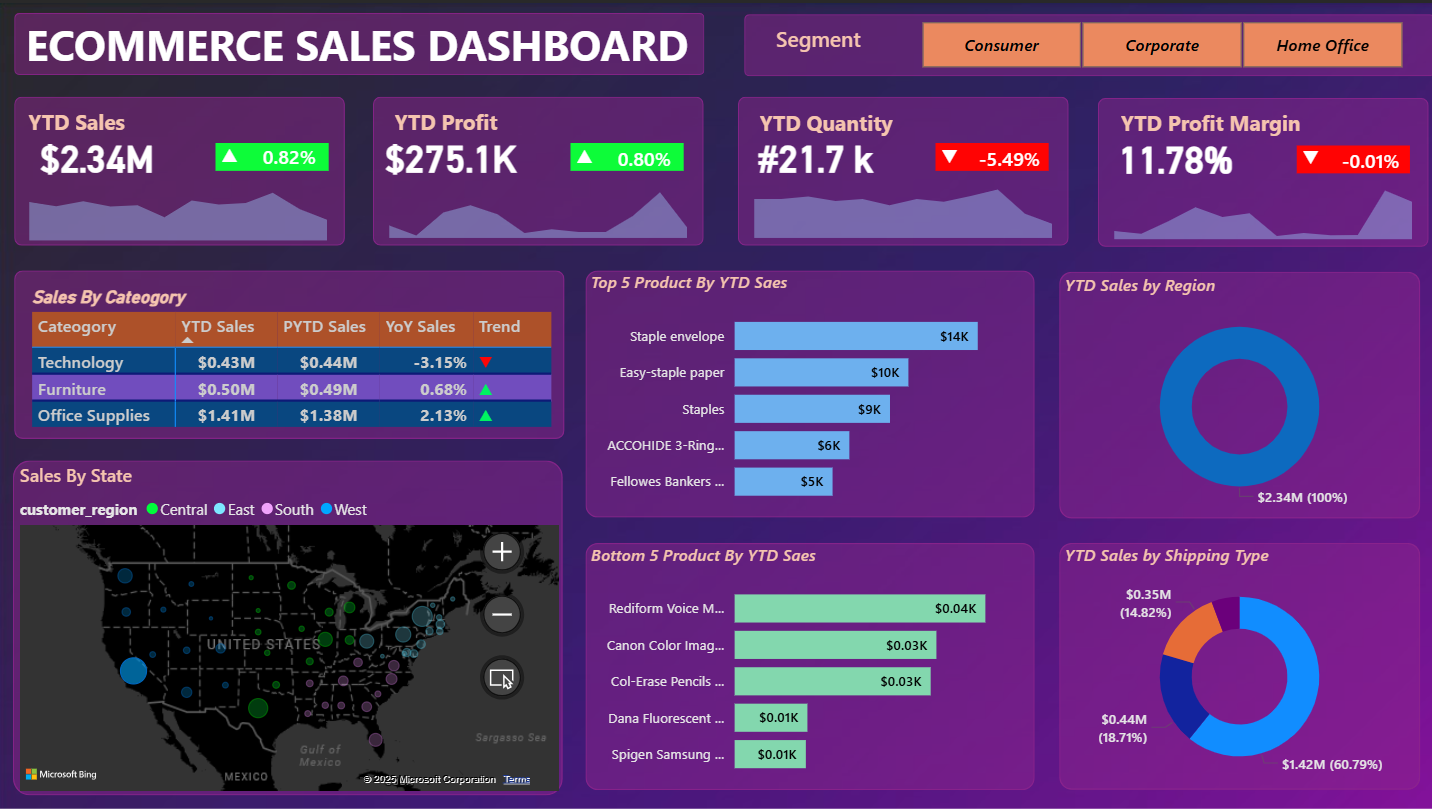

The page's visual inventory and layout, read from the dashboard file:
{"tool":"powerbi","page":{"name":"Page 1","canvas":[1280,720],"ordinal":0},"visuals":[{"type":"shape","box":[14.7,8.6,614.7,55.2],"z":0},{"type":"textbox","box":[19.6,6.1,630.7,61.4],"z":1000},{"type":"shape","box":[14.7,83.4,294.5,132.5],"z":2000},{"type":"card","fields":{"Values":["ecommerce_data.YTD Sales"]},"box":[18.4,106.7,138.7,58.9],"z":3000},{"type":"areaChart","fields":{"Category":["Calendar.Month"],"Y":["Sum(ecommerce_data.sales_per_order)"]},"box":[13.5,149.7,294.5,67.5],"z":4000},{"type":"shape","box":[193.9,125.2,100.6,24.5],"z":5000},{"type":"card","fields":{"Values":["ecommerce_data.YoY Sales"]},"box":[224.5,125.2,69.9,28.2],"z":6000},{"type":"card","fields":{"Values":["ecommerce_data.Sales Icon"]},"box":[193.9,120.2,25.8,33.1],"z":7000},{"type":"textbox","box":[22.1,88.3,110.4,35.6],"z":8000},{"type":"shape","box":[333.5,83.4,294.5,132.5],"z":9000},{"type":"card","fields":{"Values":["ecommerce_data.YTD Profit"]},"box":[333.5,106.7,138.7,58.9],"z":10000},{"type":"areaChart","fields":{"Category":["Calendar.Month"],"Y":["Sum(ecommerce_data.profit_per_order)"]},"box":[333.5,147.2,294.5,67.5],"z":11000},{"type":"shape","box":[510.2,125.2,100.6,24.5],"z":12000},{"type":"card","fields":{"Values":["ecommerce_data.YoY Profit"]},"box":[540.9,126.4,69.9,28.2],"z":13000},{"type":"card","fields":{"Values":["ecommerce_data.Profit Icon"]},"box":[510.2,121.5,25.8,33.1],"z":14000},{"type":"textbox","box":[348.2,88.3,110.4,35.6],"z":15000},{"type":"shape","box":[658.7,83.4,294.5,132.5],"z":16000},{"type":"card","fields":{"Values":["ecommerce_data.YTD Qty logo"]},"box":[658.7,106.7,138.7,58.9],"z":17000},{"type":"areaChart","fields":{"Category":["Calendar.Month"],"Y":["Sum(ecommerce_data.order_quantity)"]},"box":[658.7,147.2,294.5,67.5],"z":18000},{"type":"shape","box":[835.4,125.2,100.6,24.5],"z":19000},{"type":"card","fields":{"Values":["ecommerce_data.YoY Qty"]},"box":[866,126.4,69.9,28.2],"z":20000},{"type":"card","fields":{"Values":["ecommerce_data.Quantity Icon"]},"box":[835.4,121.5,25.8,33.1],"z":21000},{"type":"textbox","box":[673.7,88.9,141.1,35.6],"z":22000},{"type":"shape","box":[980.1,84.7,294.5,132.5],"z":23000},{"type":"card","fields":{"Values":["ecommerce_data.YTD Profit Margin"]},"box":[980.1,108,138.7,58.9],"z":24000},{"type":"areaChart","fields":{"Category":["Calendar.Month"],"Y":["ecommerce_data.Profit Margin"]},"box":[980.1,148.5,294.5,67.5],"z":25000},{"type":"shape","box":[1156.8,126.4,100.6,24.5],"z":26000},{"type":"card","fields":{"Values":["ecommerce_data.YoY Profit Margin"]},"box":[1187.5,127.6,69.9,28.2],"z":27000},{"type":"card","fields":{"Values":["ecommerce_data.Profit Margin Icon"]},"box":[1156.8,122.7,25.8,33.1],"z":28000},{"type":"textbox","box":[995.1,89.6,192.6,35.6],"z":29000},{"type":"shape","box":[14.7,238,490,150],"z":30000},{"type":"pivotTable","title":"Sales By  Cateogory","fields":{"Rows":["ecommerce_data.category_name"],"Values":["ecommerce_data.YTD Sales","ecommerce_data.PYTD Sales","ecommerce_data.YoY Sales","ecommerce_data.Sales Icon"]},"box":[25.8,252.8,473.6,131.3],"z":31000},{"type":"shape","box":[13.5,407.4,489.6,298.2],"z":32000},{"type":"map","title":"Sales By State","fields":{"X":["us_state_long_lat_codes.longitude"],"Y":["us_state_long_lat_codes.latitude"],"Size":["ecommerce_data.YTD Sales"],"Series":["ecommerce_data.customer_region"]},"box":[14.7,408.6,489.6,298.2],"z":33000},{"type":"shape","box":[522.7,238,400,220],"z":34000},{"type":"shape","box":[522.7,481,400,220],"z":35000},{"type":"barChart","title":"Top 5 Product By YTD Saes","fields":{"Category":["ecommerce_data.product_name"],"Y":["ecommerce_data.YTD Sales"]},"box":[522.7,238,400,219.6],"z":36000},{"type":"barChart","title":"Bottom 5 Product By YTD Saes","fields":{"Category":["ecommerce_data.product_name"],"Y":["ecommerce_data.YTD Sales"]},"box":[522.7,481,400,219.6],"z":37000},{"type":"shape","box":[944.8,239.3,321.5,219.6],"z":37001},{"type":"shape","box":[944.8,481,321.5,219.6],"z":37002},{"type":"donutChart","title":"YTD Sales by Region","fields":{"Y":["ecommerce_data.YTD Sales"],"Category":["ecommerce_data.customer_region"]},"box":[944.8,240.5,321.5,218.4],"z":37003},{"type":"donutChart","title":"YTD Sales by Shipping Type","fields":{"Y":["ecommerce_data.YTD Sales"],"Category":["ecommerce_data.shipping_type"]},"box":[944.8,481,321.5,218.4],"z":37004},{"type":"shape","box":[665,9.8,614.7,55.2],"z":37005},{"type":"slicer","fields":{"Values":["ecommerce_data.customer_segment"]},"box":[797.6,9.8,477.3,54],"z":37006},{"type":"textbox","box":[688.3,14.7,114.1,45.4],"z":37007}]}

Visuals, with their boxes in screenshot pixels (x1, y1, x2, y2), scaled from the page's 1280x720 canvas onto the 1432x811 screenshot:
shape: x1=16, y1=10, x2=704, y2=72
textbox: x1=22, y1=7, x2=728, y2=76
shape: x1=16, y1=94, x2=346, y2=243
card - ecommerce_data.YTD Sales: x1=21, y1=120, x2=176, y2=187
areaChart - Calendar.Month x Sum(ecommerce_data.sales_per_order): x1=15, y1=169, x2=345, y2=245
shape: x1=217, y1=141, x2=329, y2=169
card - ecommerce_data.YoY Sales: x1=251, y1=141, x2=329, y2=173
card - ecommerce_data.Sales Icon: x1=217, y1=135, x2=246, y2=173
textbox: x1=25, y1=99, x2=148, y2=140
shape: x1=373, y1=94, x2=703, y2=243
card - ecommerce_data.YTD Profit: x1=373, y1=120, x2=528, y2=187
areaChart - Calendar.Month x Sum(ecommerce_data.profit_per_order): x1=373, y1=166, x2=703, y2=242
shape: x1=571, y1=141, x2=683, y2=169
card - ecommerce_data.YoY Profit: x1=605, y1=142, x2=683, y2=174
card - ecommerce_data.Profit Icon: x1=571, y1=137, x2=600, y2=174
textbox: x1=390, y1=99, x2=513, y2=140
shape: x1=737, y1=94, x2=1066, y2=243
card - ecommerce_data.YTD Qty logo: x1=737, y1=120, x2=892, y2=187
areaChart - Calendar.Month x Sum(ecommerce_data.order_quantity): x1=737, y1=166, x2=1066, y2=242
shape: x1=935, y1=141, x2=1047, y2=169
card - ecommerce_data.YoY Qty: x1=969, y1=142, x2=1047, y2=174
card - ecommerce_data.Quantity Icon: x1=935, y1=137, x2=963, y2=174
textbox: x1=754, y1=100, x2=912, y2=140
shape: x1=1096, y1=95, x2=1426, y2=245
card - ecommerce_data.YTD Profit Margin: x1=1096, y1=122, x2=1252, y2=188
areaChart - Calendar.Month x ecommerce_data.Profit Margin: x1=1096, y1=167, x2=1426, y2=243
shape: x1=1294, y1=142, x2=1407, y2=170
card - ecommerce_data.YoY Profit Margin: x1=1329, y1=144, x2=1407, y2=175
card - ecommerce_data.Profit Margin Icon: x1=1294, y1=138, x2=1323, y2=175
textbox: x1=1113, y1=101, x2=1329, y2=141
shape: x1=16, y1=268, x2=565, y2=437
"Sales By  Cateogory" pivotTable: x1=29, y1=285, x2=559, y2=433
shape: x1=15, y1=459, x2=563, y2=795
"Sales By State" map: x1=16, y1=460, x2=564, y2=796
shape: x1=585, y1=268, x2=1032, y2=516
shape: x1=585, y1=542, x2=1032, y2=790
"Top 5 Product By YTD Saes" barChart: x1=585, y1=268, x2=1032, y2=515
"Bottom 5 Product By YTD Saes" barChart: x1=585, y1=542, x2=1032, y2=789
shape: x1=1057, y1=270, x2=1417, y2=517
shape: x1=1057, y1=542, x2=1417, y2=789
"YTD Sales by Region" donutChart: x1=1057, y1=271, x2=1417, y2=517
"YTD Sales by Shipping Type" donutChart: x1=1057, y1=542, x2=1417, y2=788
shape: x1=744, y1=11, x2=1431, y2=73
slicer - ecommerce_data.customer_segment: x1=892, y1=11, x2=1426, y2=72
textbox: x1=770, y1=17, x2=898, y2=68
